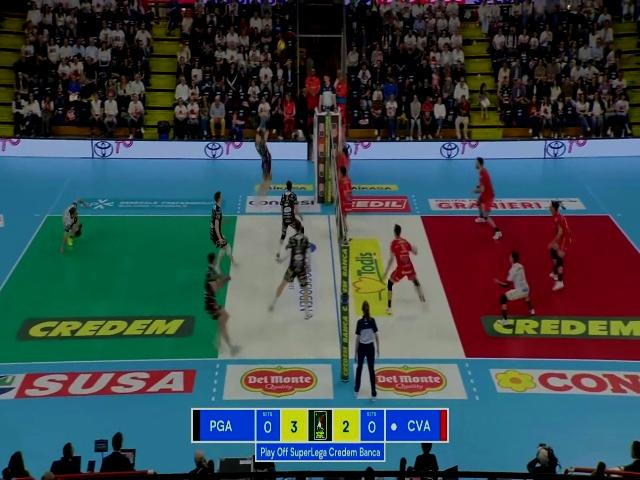volleyball court: (0, 212, 638, 366)
